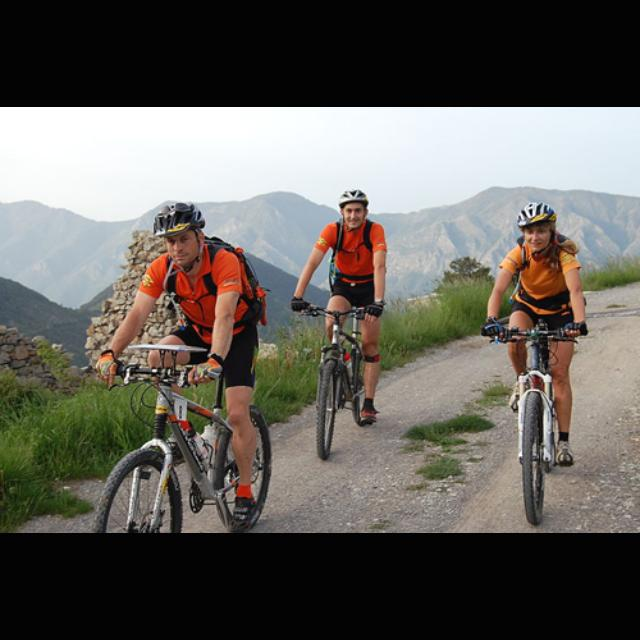With Helmet: (147, 198, 210, 266), (510, 194, 566, 264), (328, 185, 377, 229)
